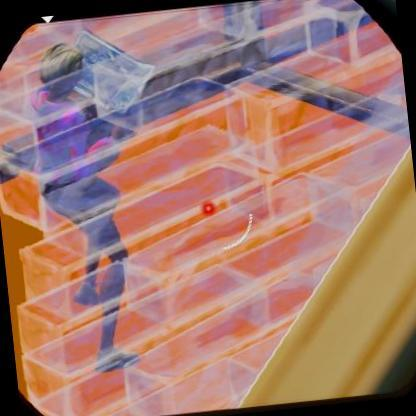person: (22, 30, 158, 350)
